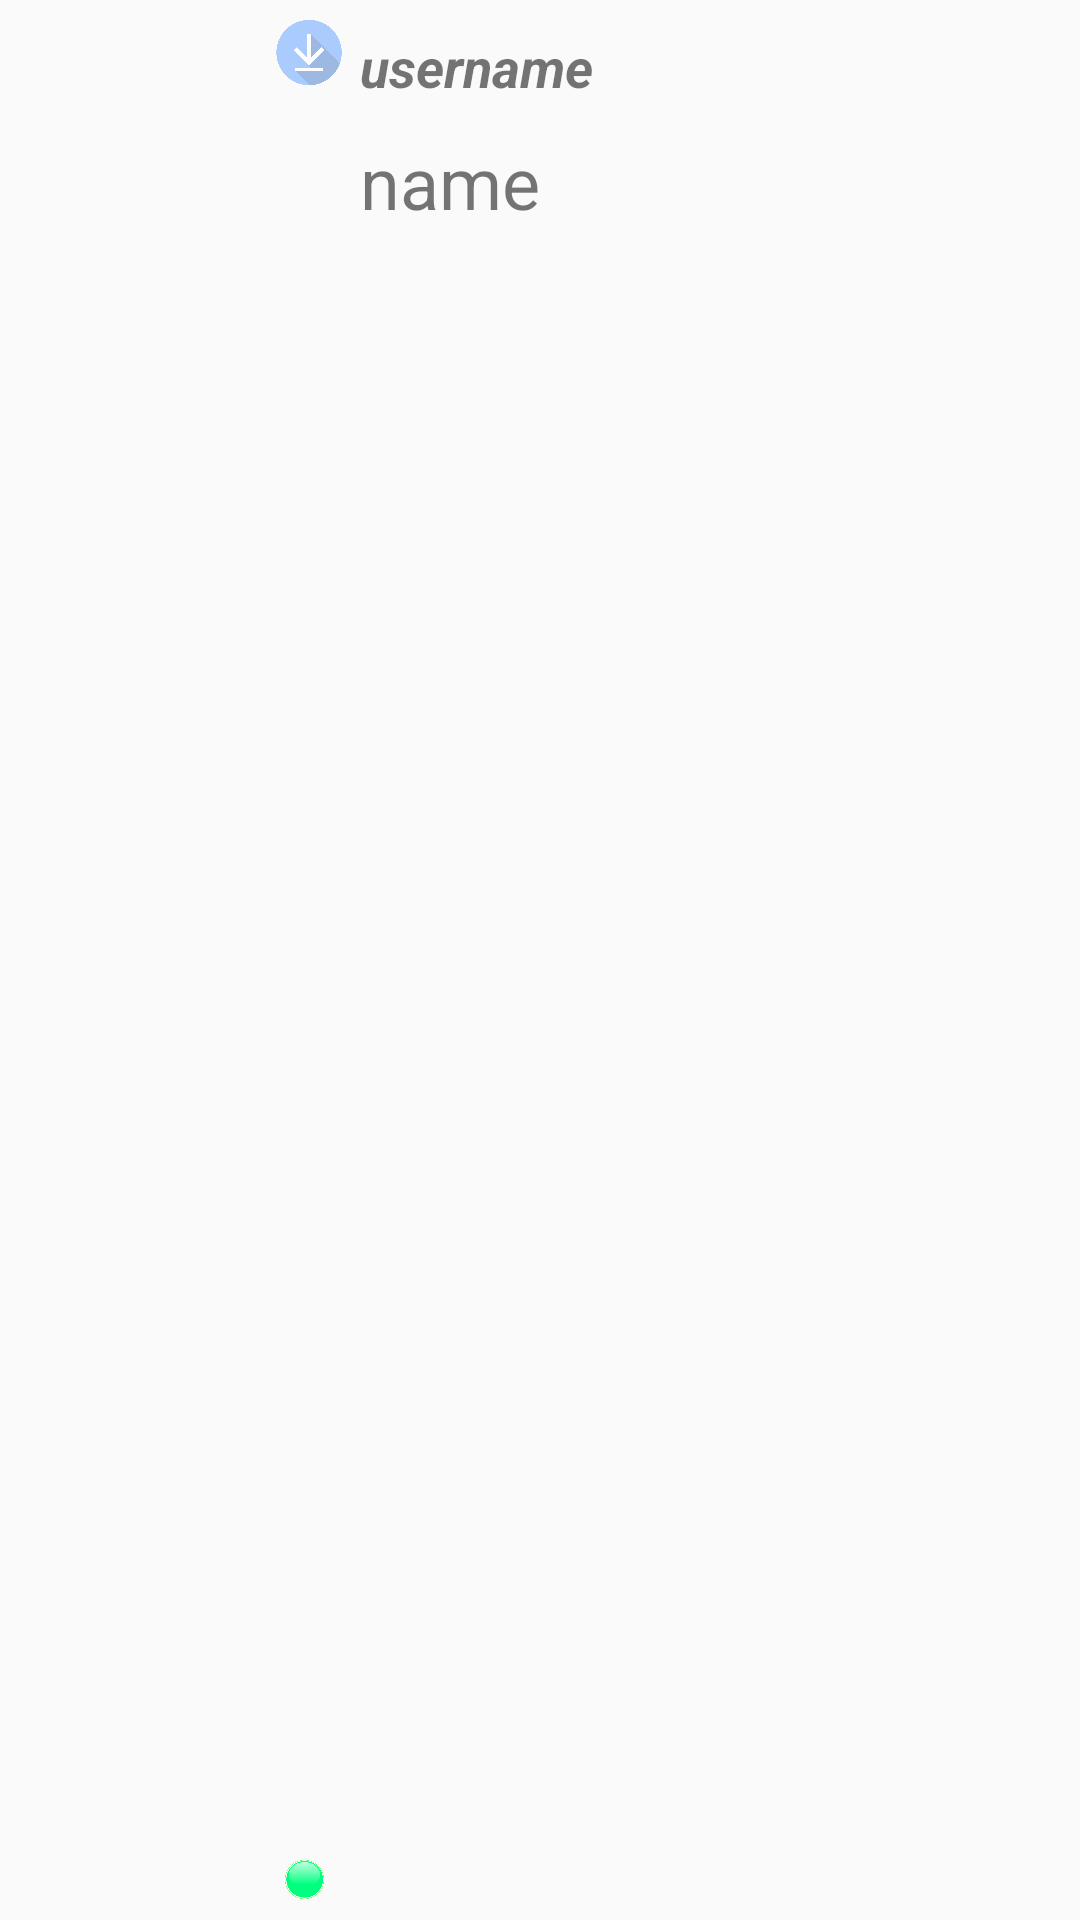

Named icons in this screenshot (1080 × 1920) and their centers, (x=x, y=y):
circle: (x=304, y=1879)
download: (x=309, y=52)
